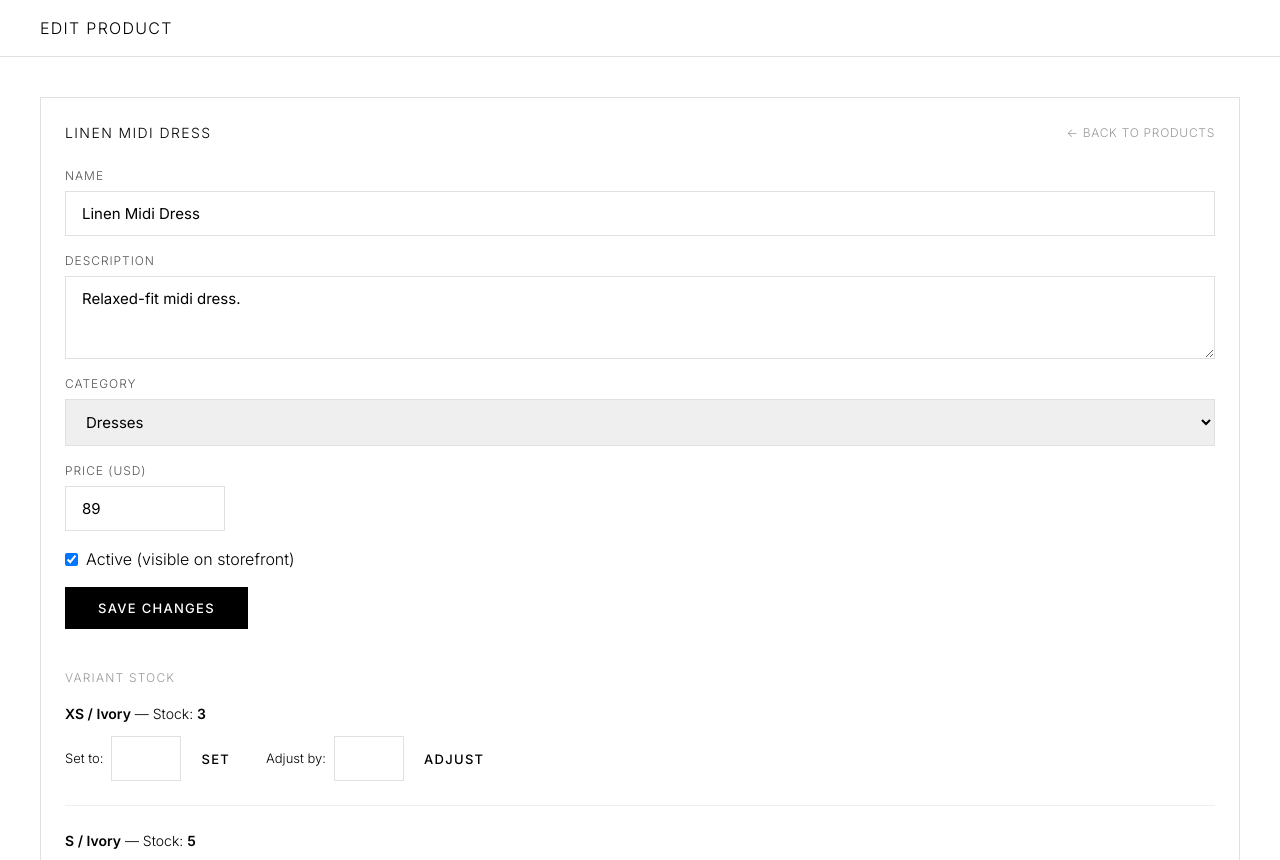
AdminProductForm › edit mode › shows server 400 error when negative delta would result in negative stock
This screenshot has width=1280, height=860.
Type "-999" into the number field labelled "Adjust by:" below "XS" at [369, 758], box [334,736,404,781]
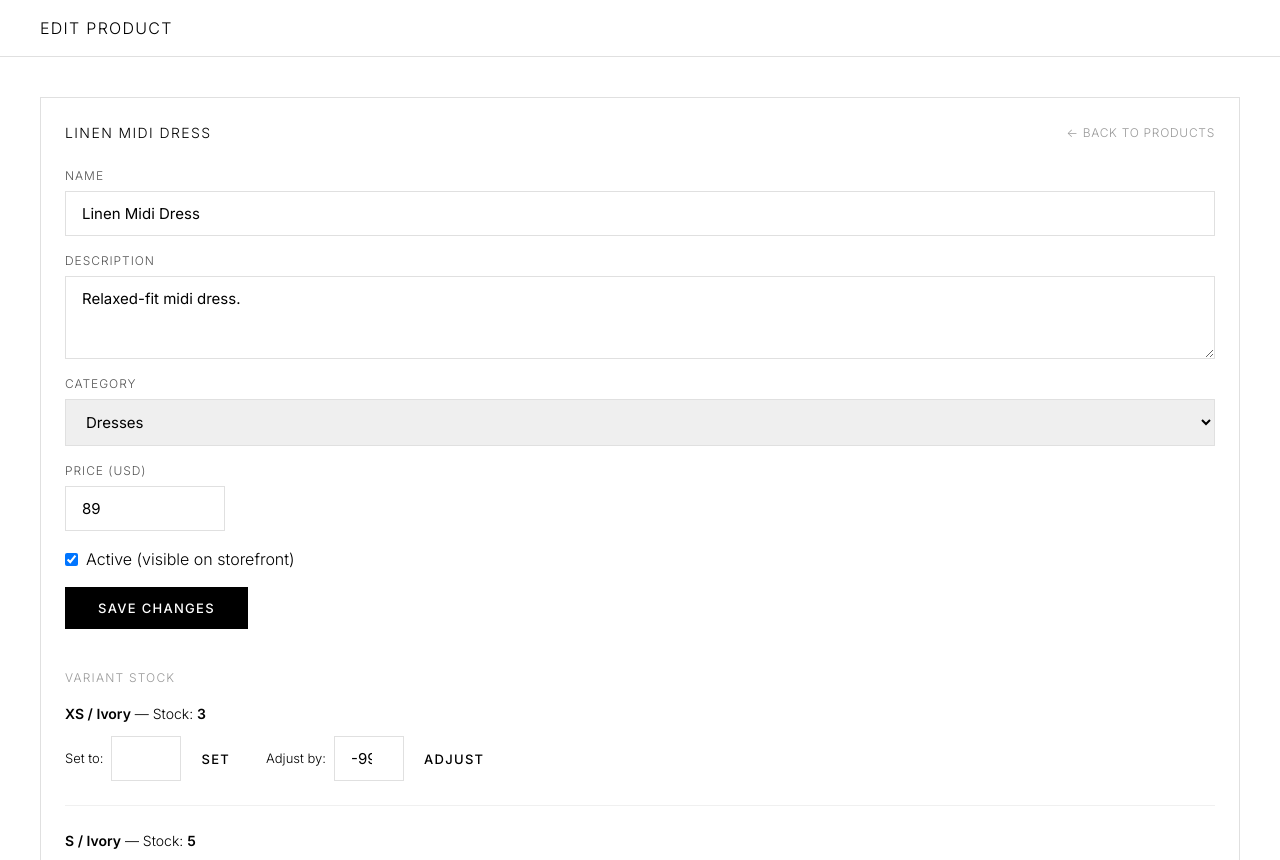
Click the 1st button "Adjust" at [454, 758], box [412,744,496,773]
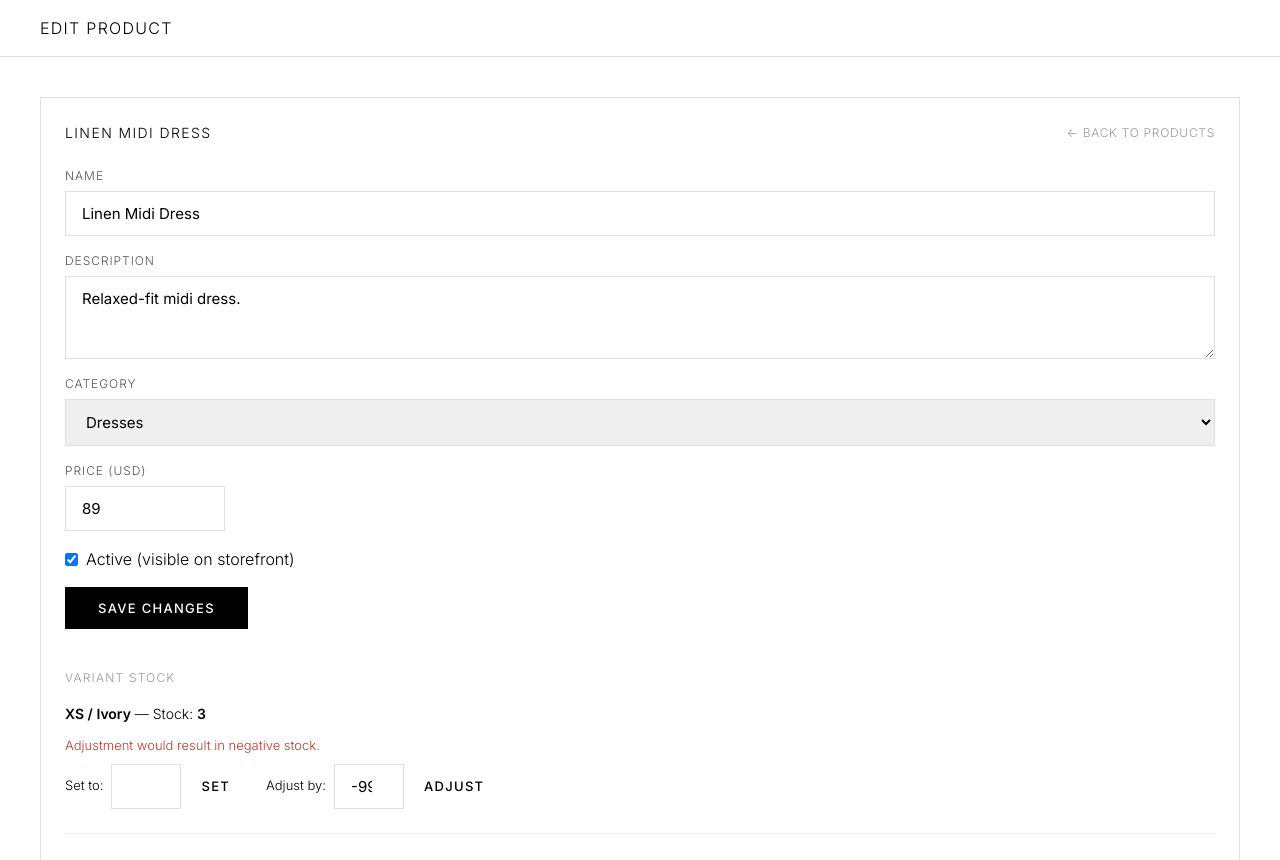
Expected: the message shows "negative stock", [65,737,320,753]
